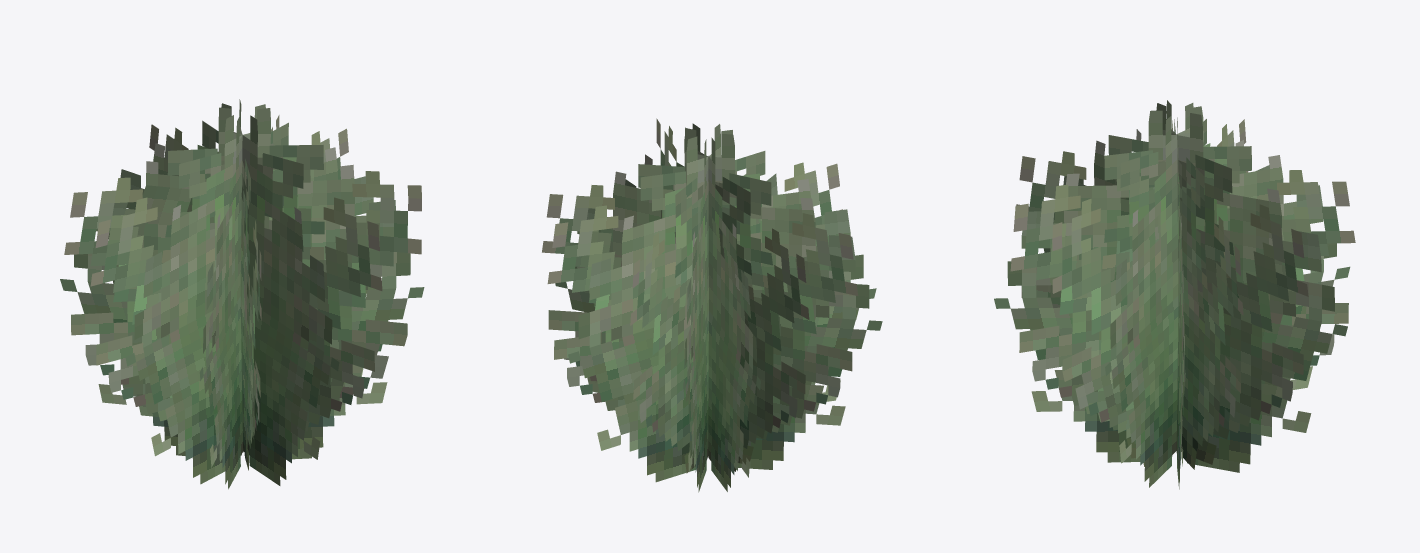
The model's file is bush.glb.
3 renders of one model, left to right at view 1: azimuth 30°, elevation 25°; view 2: azimuth 150°, elevation 25°; view 3: azimuth 270°, elevation 25°, orthographic. The views are drawn at different scales.
Visible parts, largest first — view 1: Bush; view 2: Bush; view 3: Bush.
Part boxes in pixels (x1,y1,x2,y2): Bush: (60, 99, 424, 489); Bush: (542, 118, 882, 492); Bush: (994, 100, 1355, 489).
Size of the model in its own units: 2.19 by 2.06 by 2.19.
Materials: 1 (1 with a texture image).
